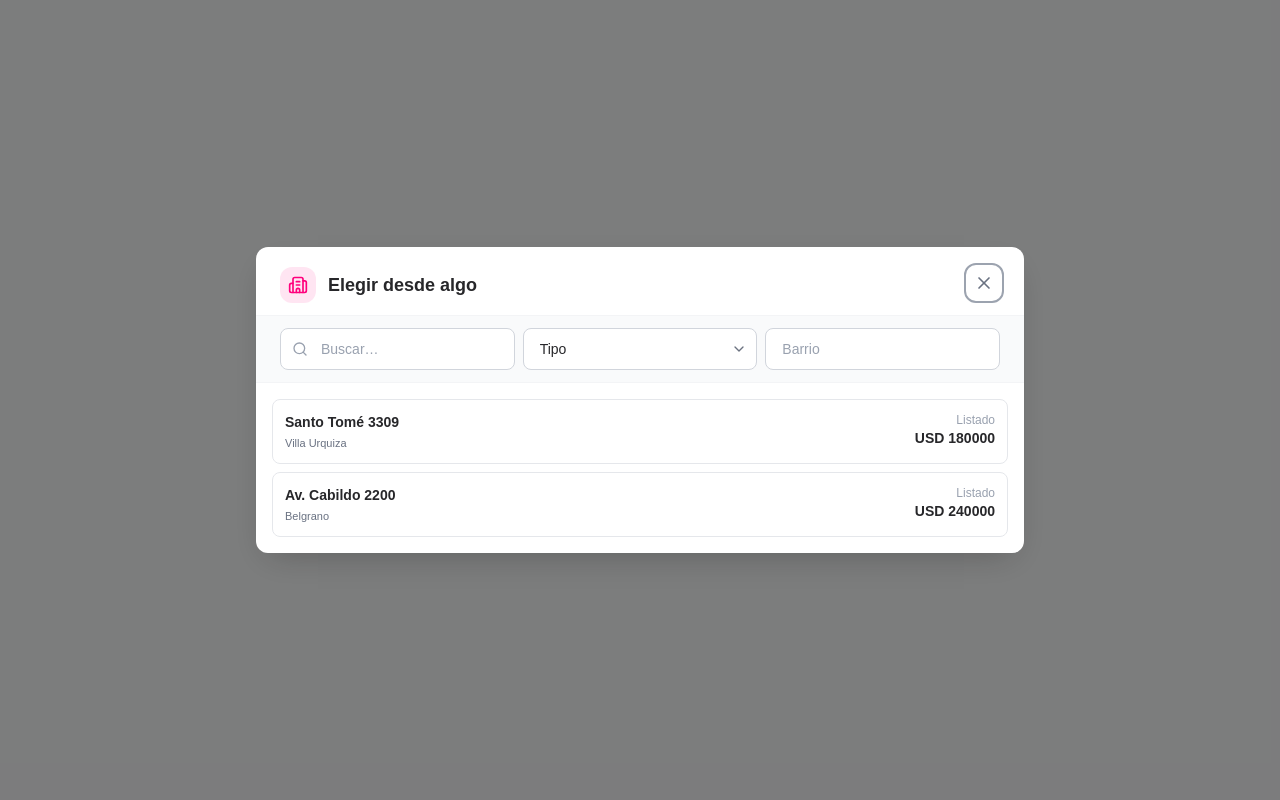
ComparablePickerModal › un filtro `server` recarga desde la fuente; uno de cliente no
Expected: the text "Santo Tomé 3309" is shown, [285, 412, 399, 432]
# Filtro de servidor: recarga, y le llega el valor.
Select "Casa" in the dropdown named "Tipo" at {"x": 640, "y": 349}, box [523, 328, 757, 370]
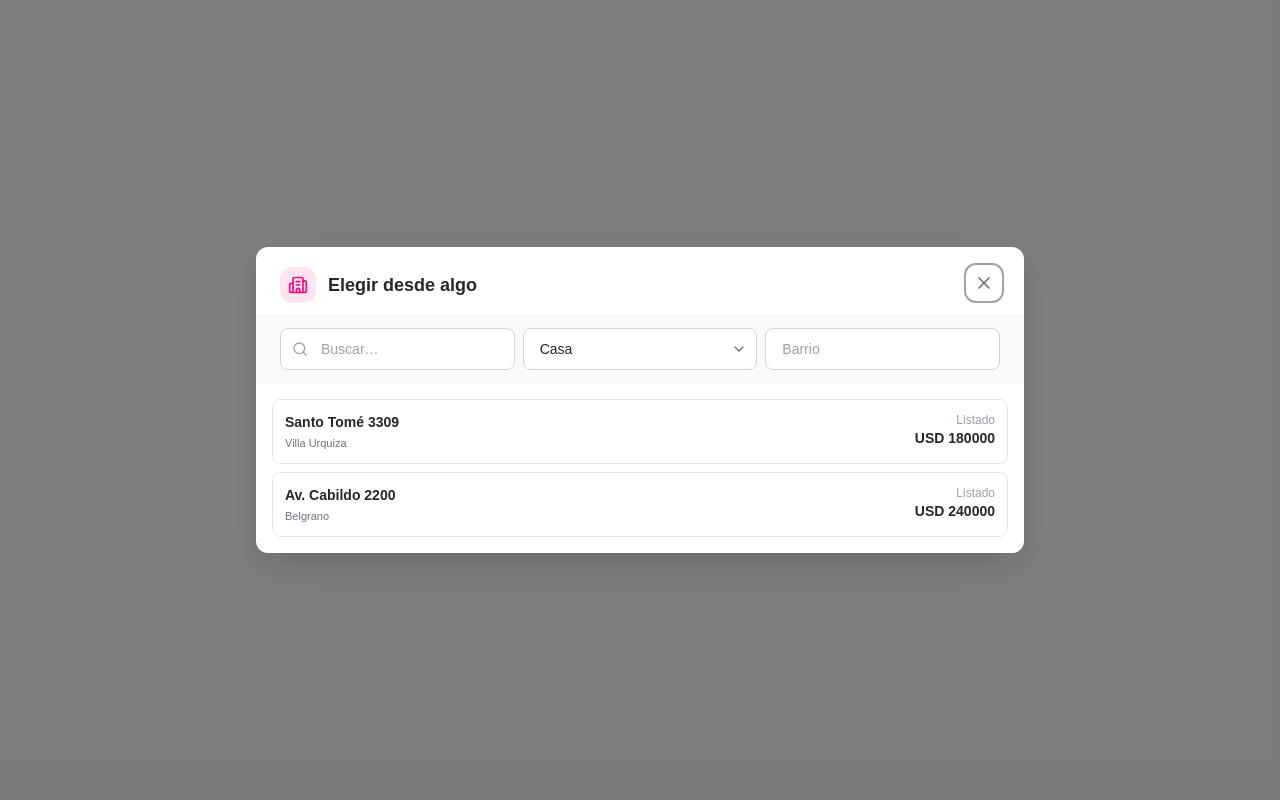
# Filtro de cliente: NO recarga, filtra lo que ya está.
Type "belgrano" into the field labelled "Barrio" at {"x": 883, "y": 349}, box [765, 328, 1000, 370]
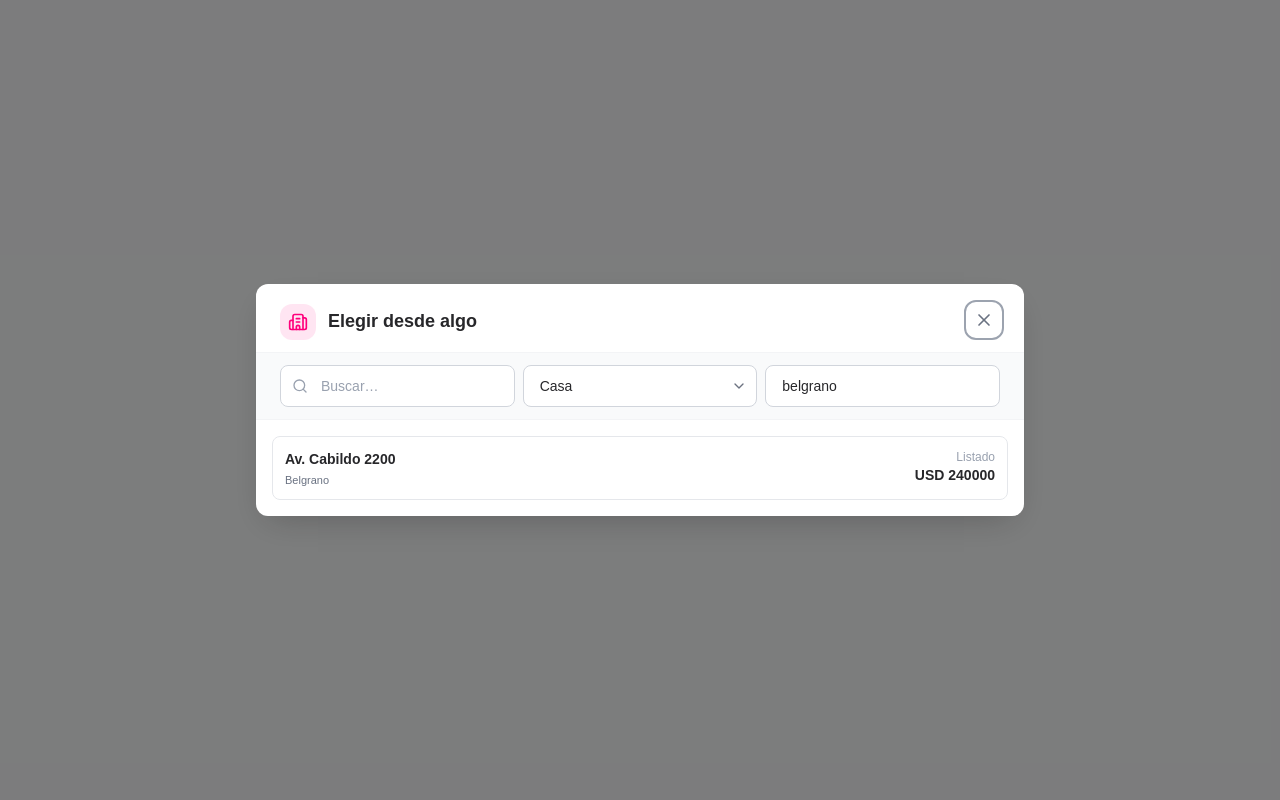
Result: the button "Santo Tomé 3309" is gone
